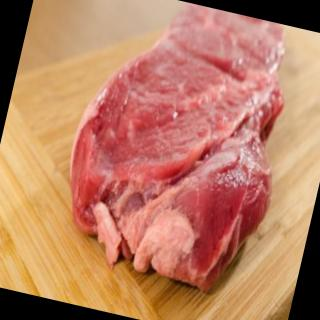Daging Sapi: (48, 1, 309, 304)
